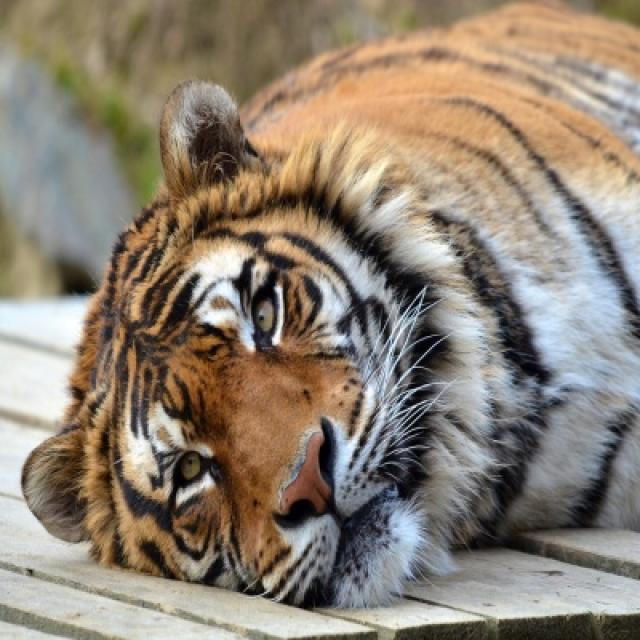Tiger: (103, 218, 447, 610)
